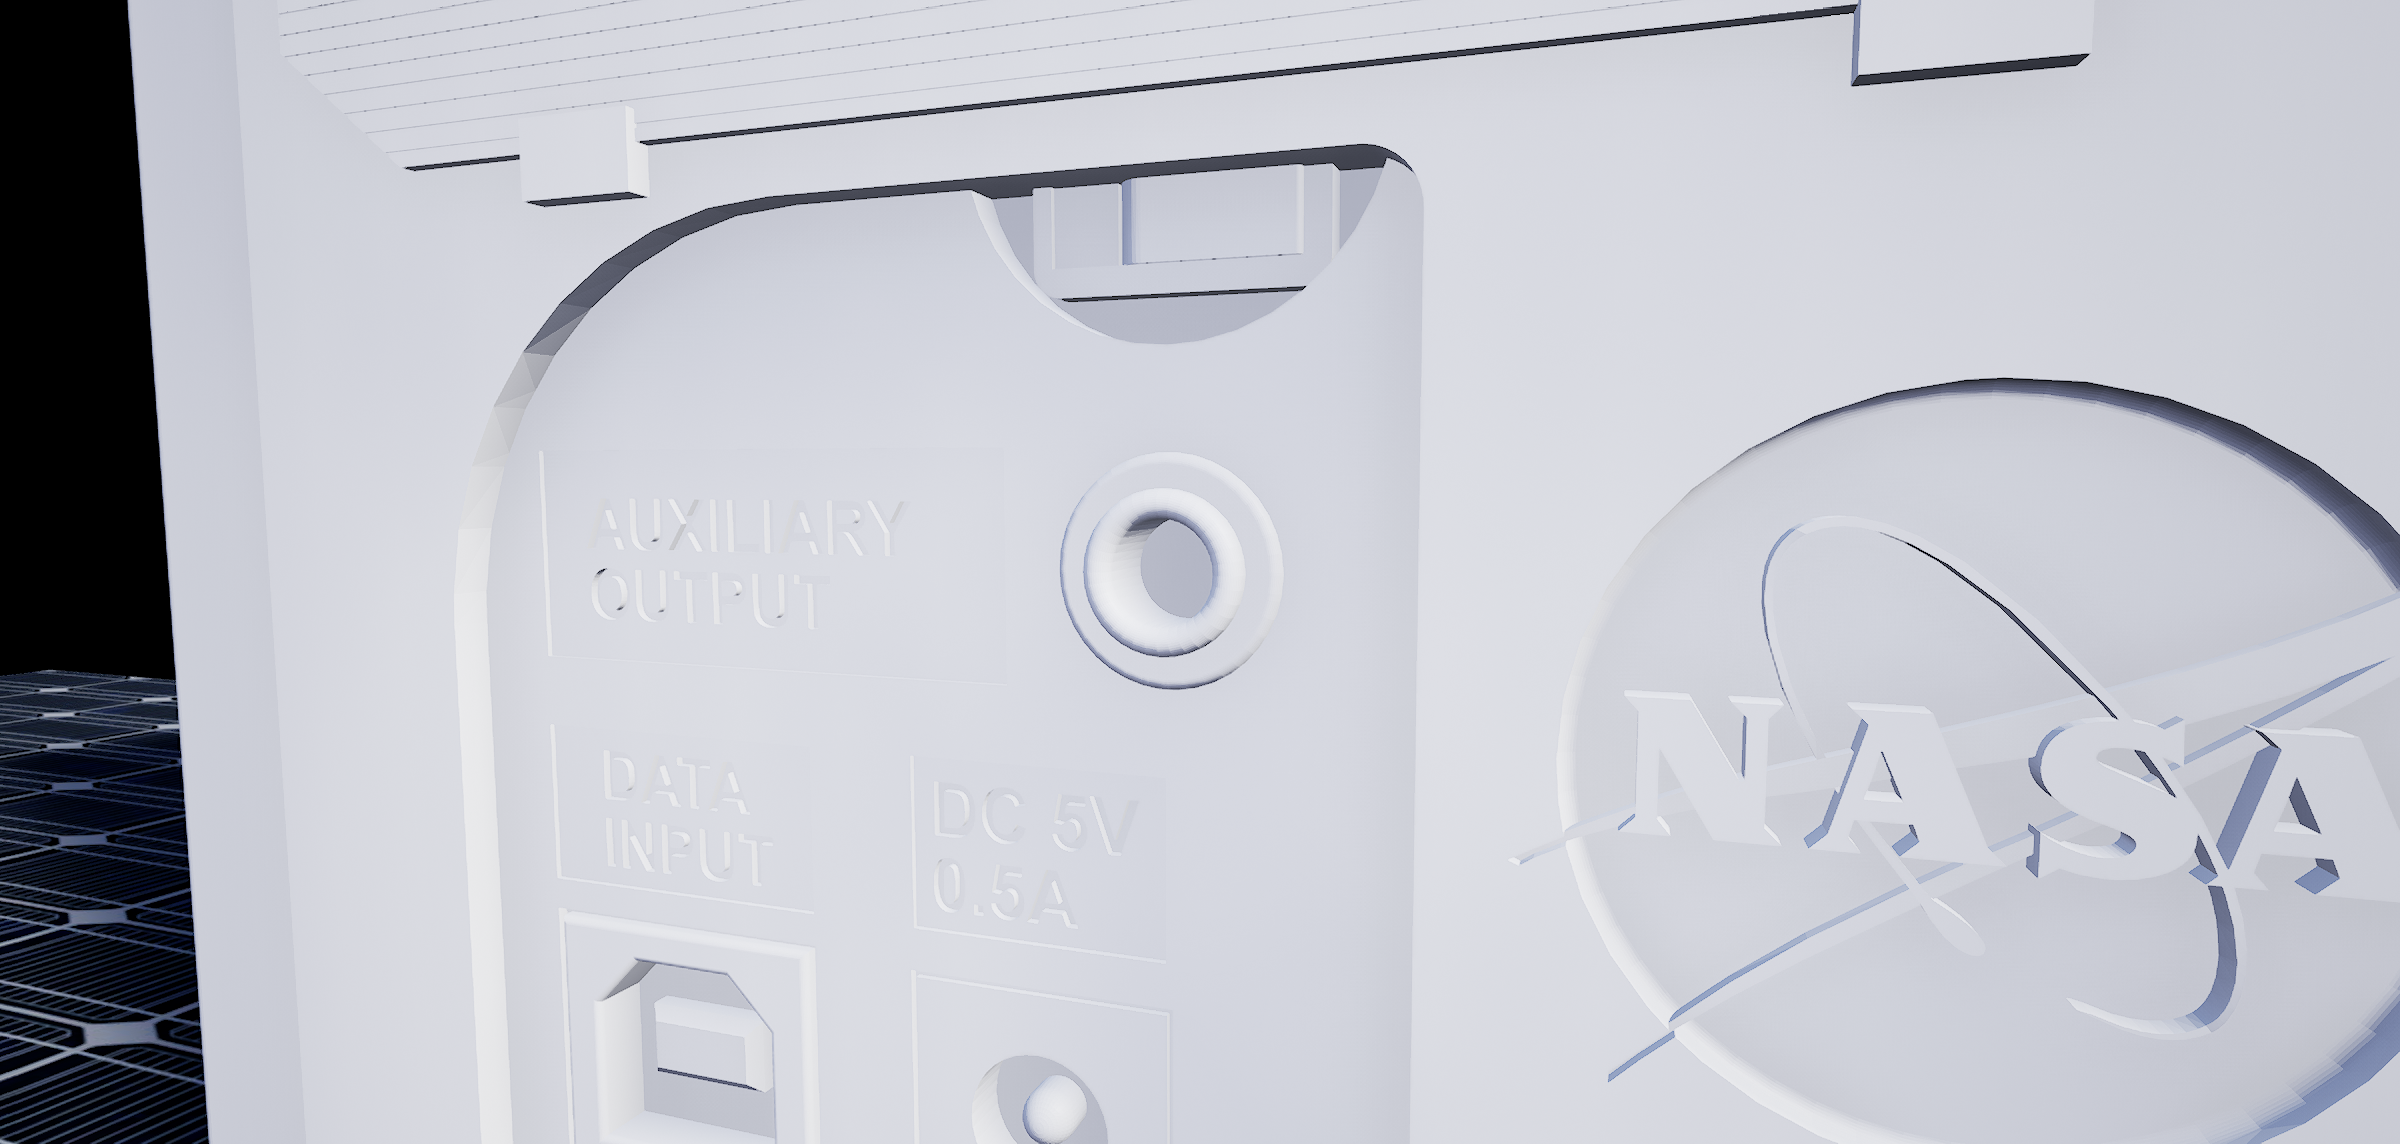aux: (1047, 446, 1303, 703)
dc: (972, 1044, 1120, 1144)
usb: (588, 951, 785, 1144)
